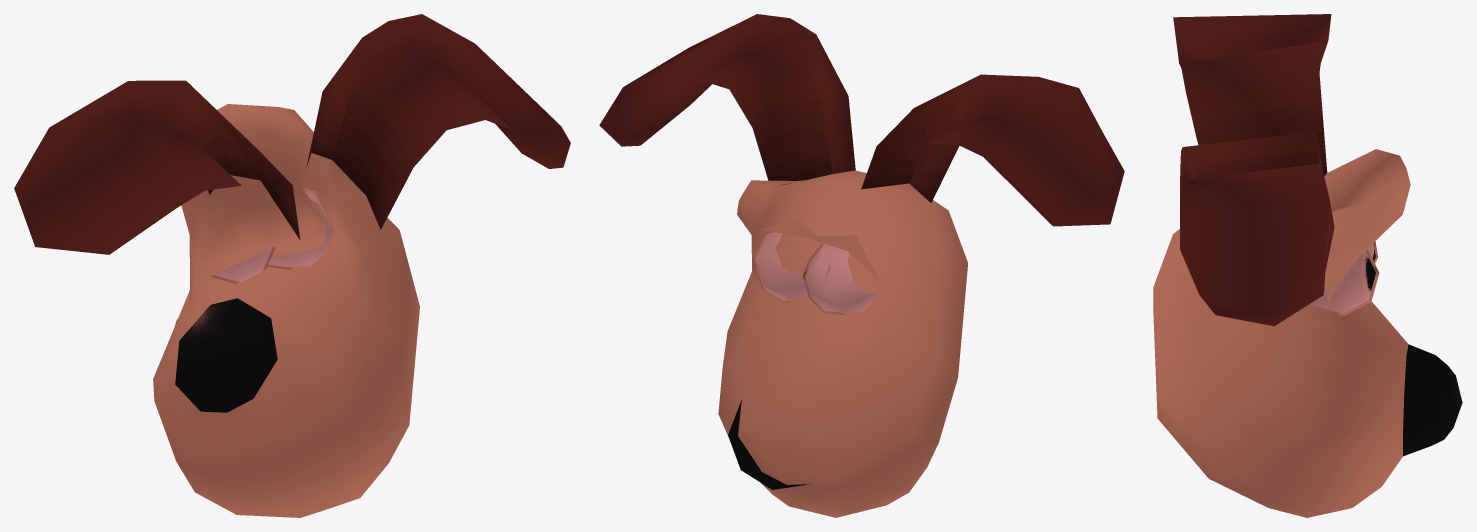
Rendered from ps2_save-icons_wallaceandgromitinprojectzoo.glb.
The picture shows the model from 3 angles, left to right: view 1: azimuth 30°, elevation 25°; view 2: azimuth 150°, elevation 25°; view 3: azimuth 270°, elevation 25°; orthographic projection. The views are drawn at different scales.
Visible parts, largest first — view 1: gromit.ico; view 2: gromit.ico; view 3: gromit.ico.
Part boxes in pixels (x1,y1,x2,y2): gromit.ico: (14,14,570,517); gromit.ico: (599,14,1124,517); gromit.ico: (1153,14,1462,517).
Bounding box in the file's own units: 5 × 4.26 × 2.81.
Materials: 1 (1 with a texture image).
